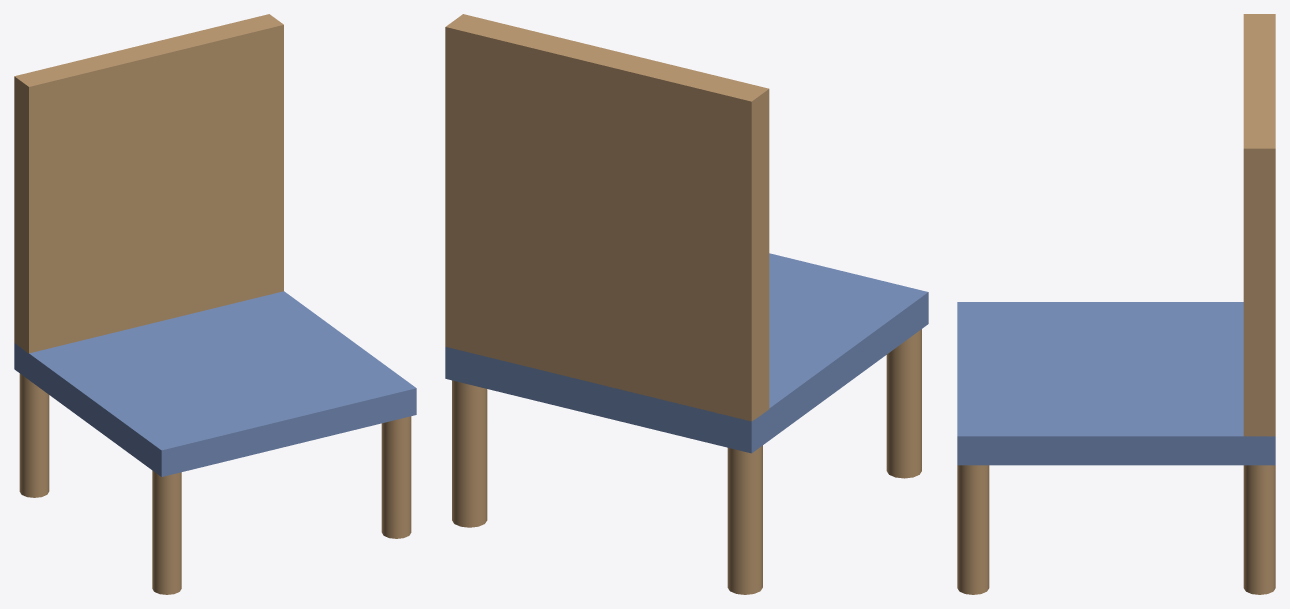
Rendered from chair_array.glb.
3 views of the same model, side by side, from view 1: azimuth 30°, elevation 25°; view 2: azimuth 150°, elevation 25°; view 3: azimuth 270°, elevation 25° (orthographic). The views are drawn at different scales.
Parts seen in each view (by area): view 1: back, seat, leg (×3); view 2: back, seat, leg (×3); view 3: seat, back, leg (×2).
Boxes of the visible parts, bbox=[...] form: back: bbox=[14, 14, 283, 353]; seat: bbox=[14, 291, 416, 476]; leg (×3): bbox=[19, 373, 411, 594]; back: bbox=[445, 14, 769, 421]; seat: bbox=[445, 253, 928, 453]; leg (×3): bbox=[452, 329, 921, 594]; seat: bbox=[957, 302, 1275, 465]; back: bbox=[1243, 14, 1275, 436]; leg (×2): bbox=[957, 465, 1275, 594].
Size of the model in its own units: 1 by 1.55 by 1.
